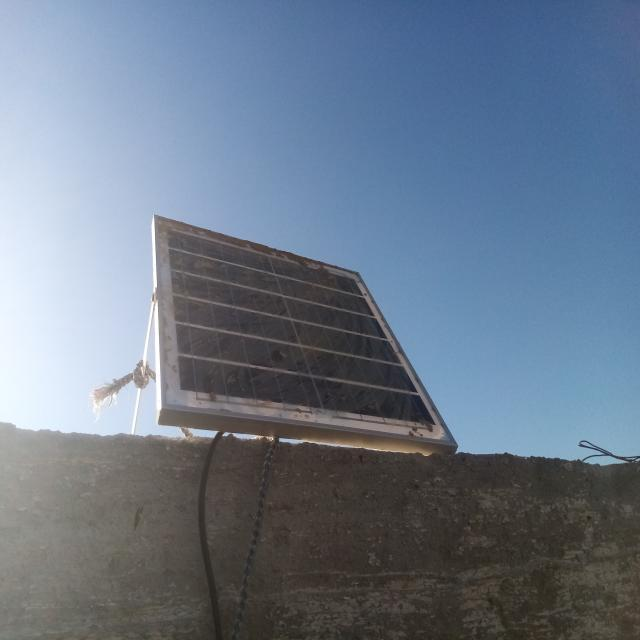faulty: (157, 219, 458, 449)
